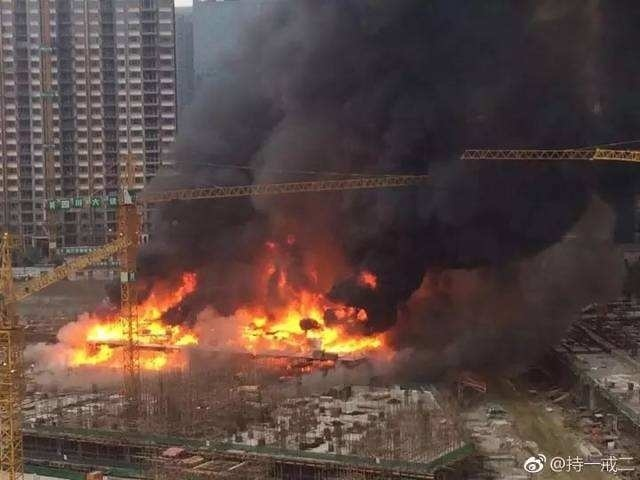fire: (235, 265, 389, 358), (56, 273, 196, 373)
